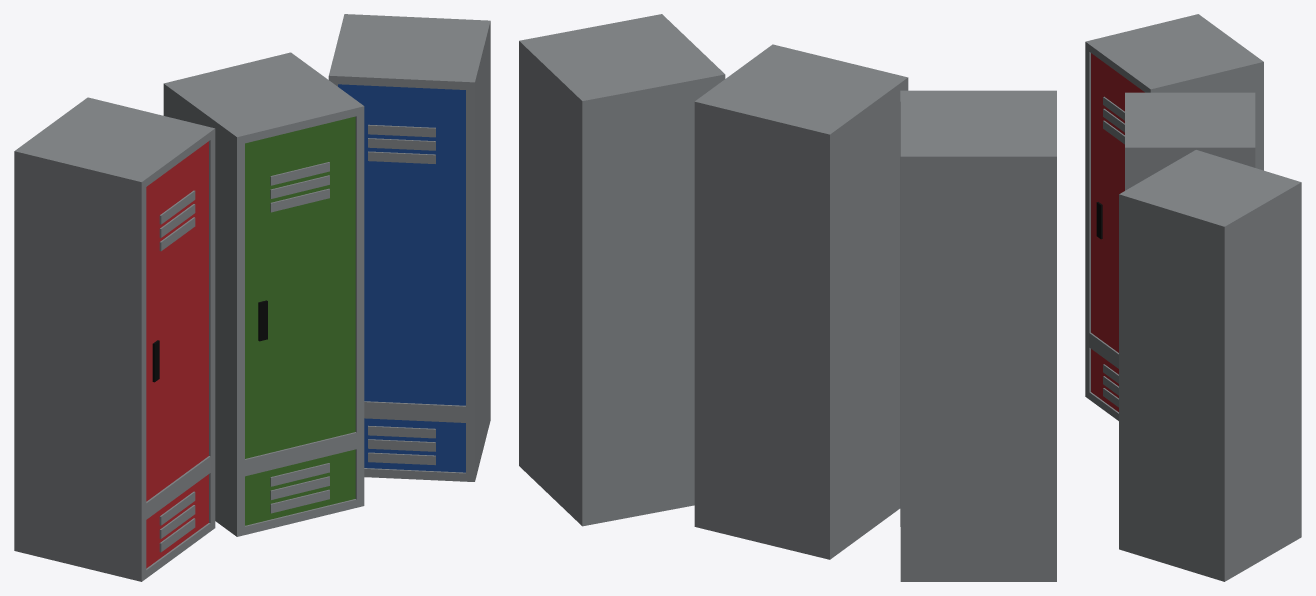
Rendered from Basic Locker.fbx.
3 views of the same model, side by side, from view 1: azimuth 30°, elevation 25°; view 2: azimuth 150°, elevation 25°; view 3: azimuth 270°, elevation 25° (orthographic). The views are drawn at different scales.
Parts seen in each view (by area): view 1: Locker 2, Locker 3, Locker 1; view 2: Locker 3, Locker 1, Locker 2; view 3: Locker 1, Locker 2, Locker 3.
Boxes of the visible parts, bbox=[...] form: Locker 2: bbox=[14, 97, 215, 581]; Locker 3: bbox=[163, 52, 364, 536]; Locker 1: bbox=[328, 14, 490, 481]; Locker 3: bbox=[694, 44, 908, 559]; Locker 1: bbox=[519, 14, 725, 526]; Locker 2: bbox=[900, 90, 1056, 581]; Locker 1: bbox=[1119, 150, 1301, 581]; Locker 2: bbox=[1085, 14, 1263, 420]; Locker 3: bbox=[1125, 92, 1255, 190].
Bounding box in the file's own units: 603 × 469 × 259.
